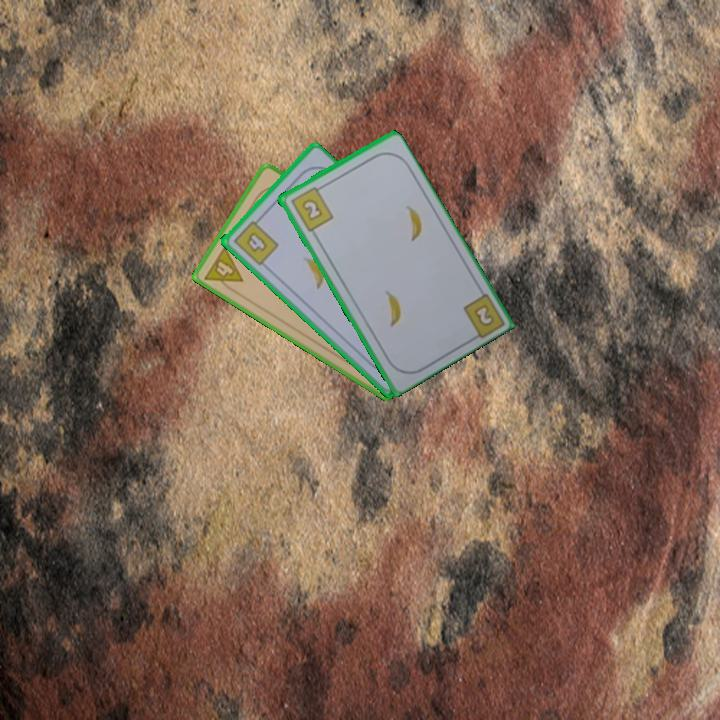2b: (287, 182, 336, 234), (472, 303, 495, 327)
4b: (229, 213, 281, 268)
4p: (201, 242, 246, 296)
